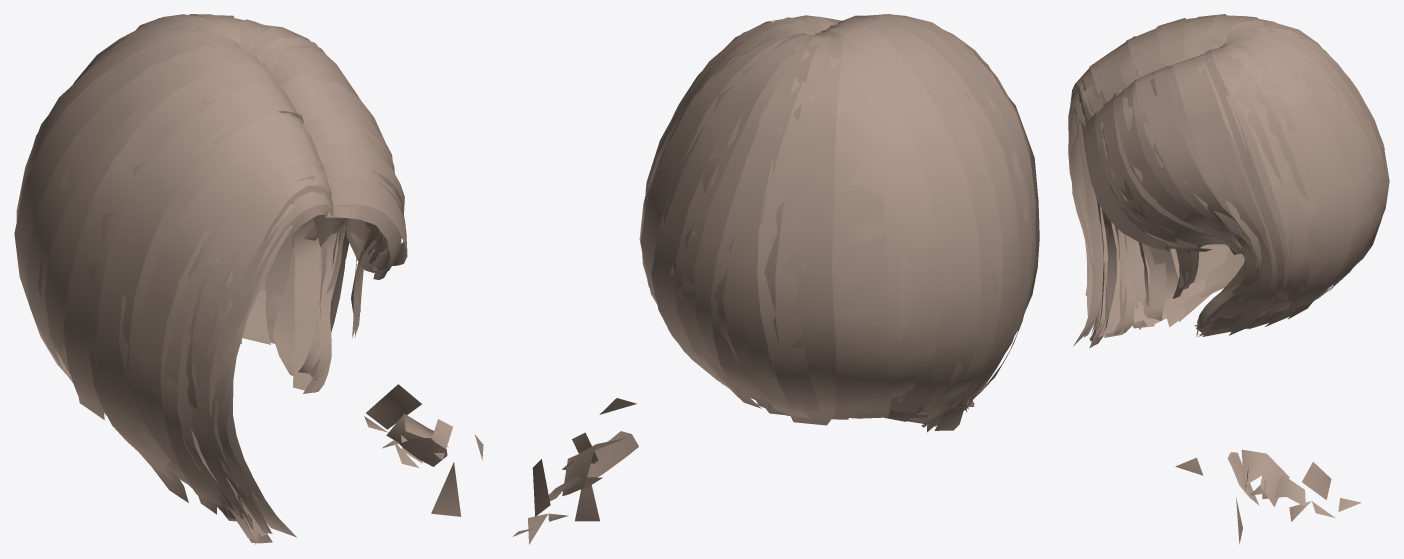
File: female_hair_03_lod0.glb
3 views of the same model, side by side, from view 1: azimuth 30°, elevation 25°; view 2: azimuth 150°, elevation 25°; view 3: azimuth 270°, elevation 25° (orthographic). The views are drawn at different scales.
Parts seen in each view (by area): view 1: female-hair-03; view 2: female-hair-03; view 3: female-hair-03.
Boxes of the visible parts, x1,y1,x2,y2 form: female-hair-03: (14,14,483,544); female-hair-03: (513,14,1039,544); female-hair-03: (1068,14,1389,544).
Size of the model in its own units: 0.2653 by 0.3289 by 0.2266.
